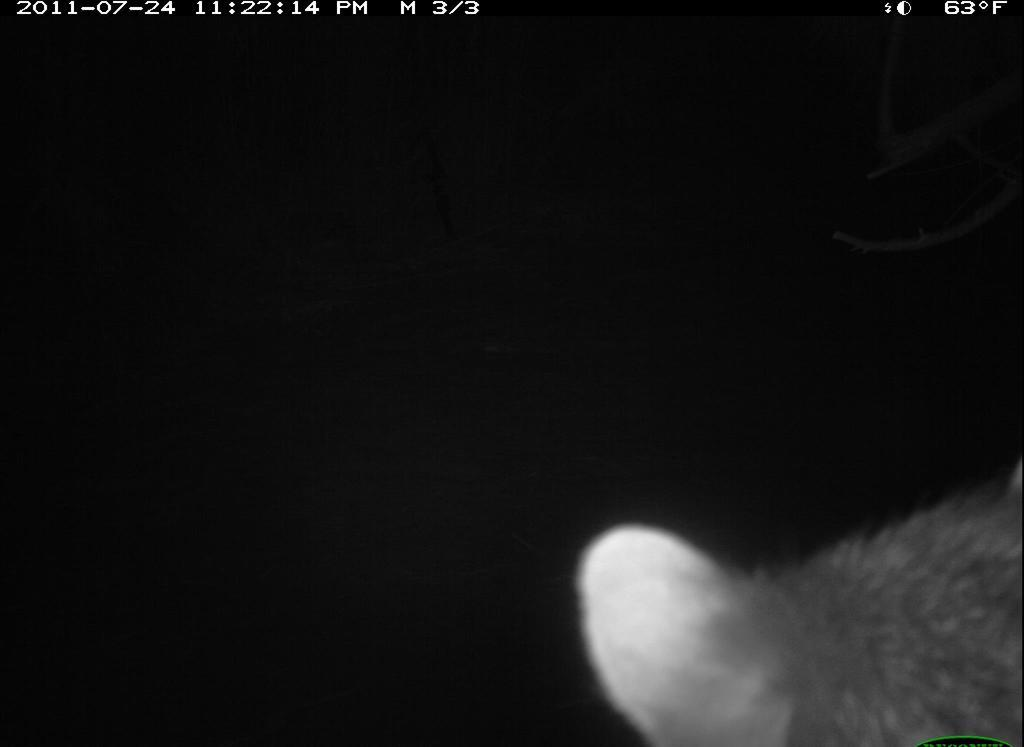raccoon: (574, 436, 1024, 747)
